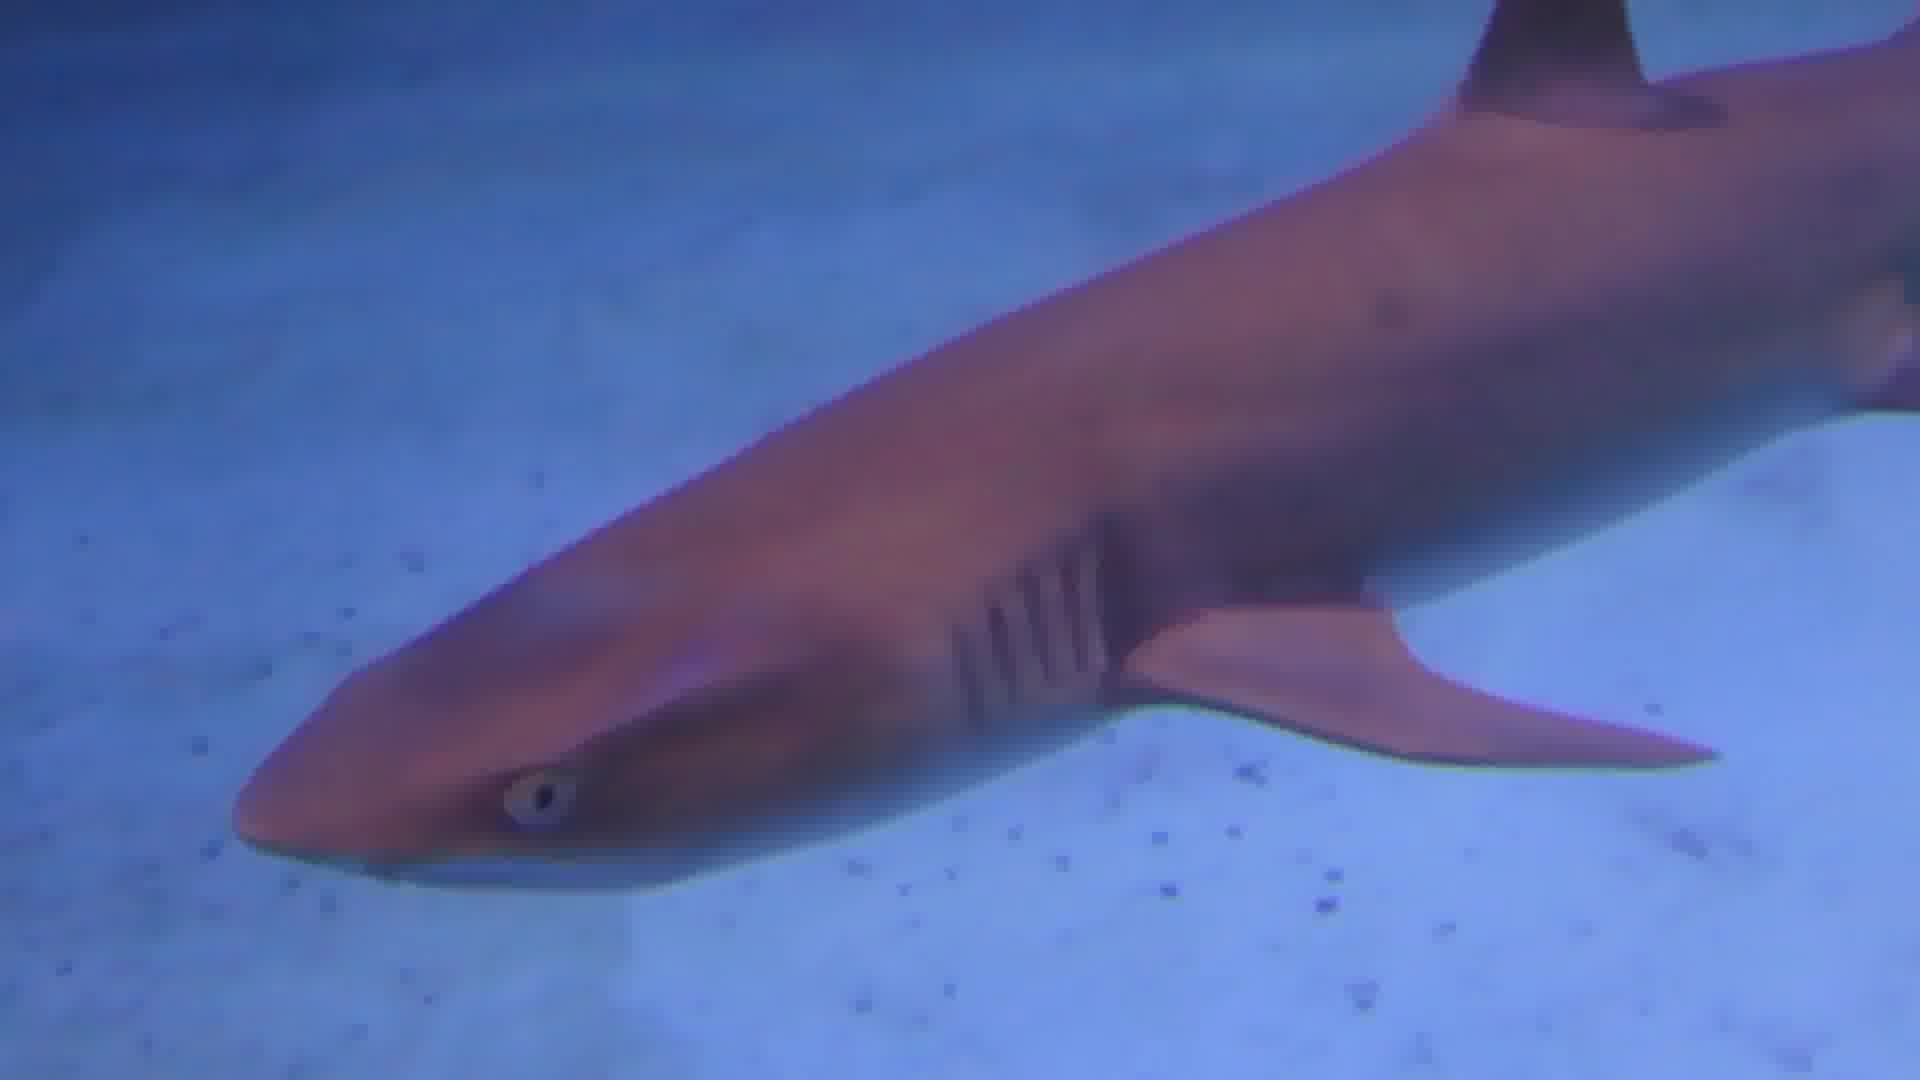Triaenodon obesus: (204, 1, 1920, 902)
